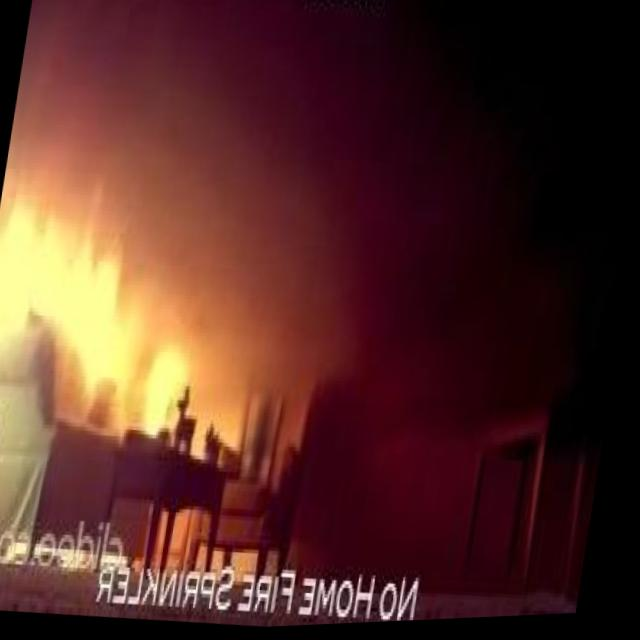fire: (0, 180, 163, 367), (57, 240, 161, 405), (139, 336, 194, 439)
